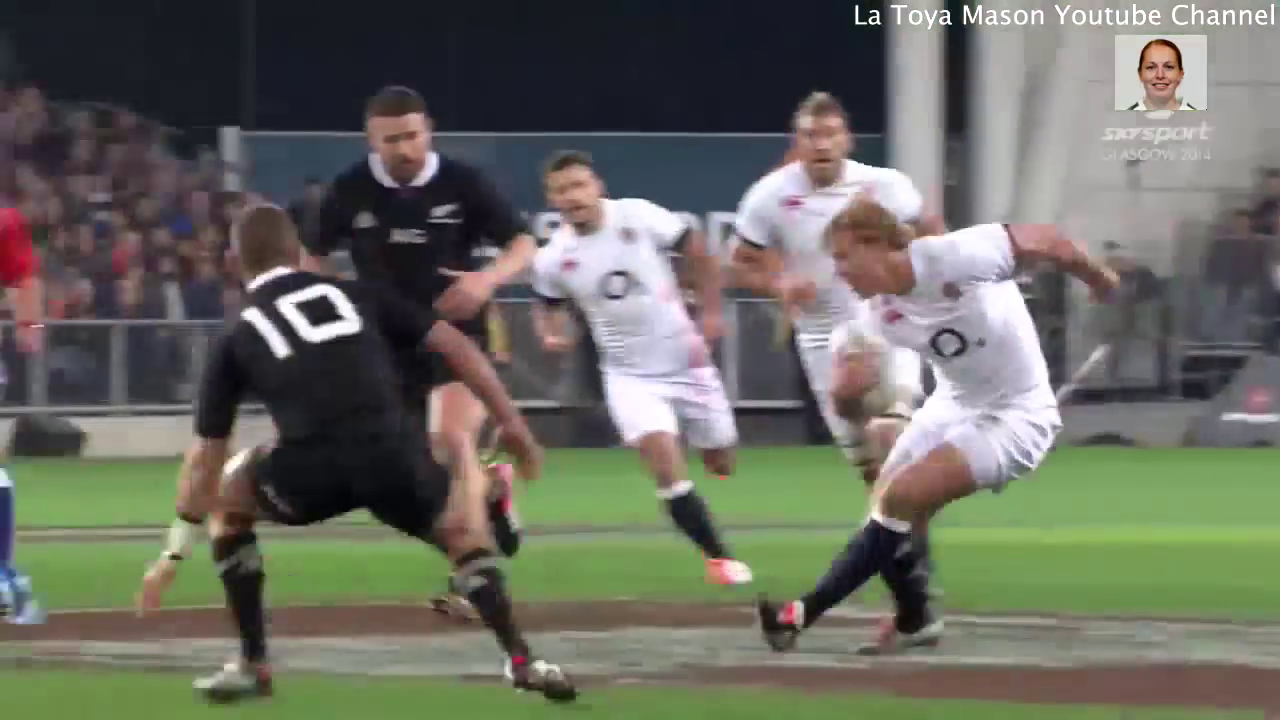player: (131, 196, 592, 708), (749, 194, 1125, 663), (522, 149, 784, 584), (725, 88, 936, 411), (288, 79, 537, 334)
